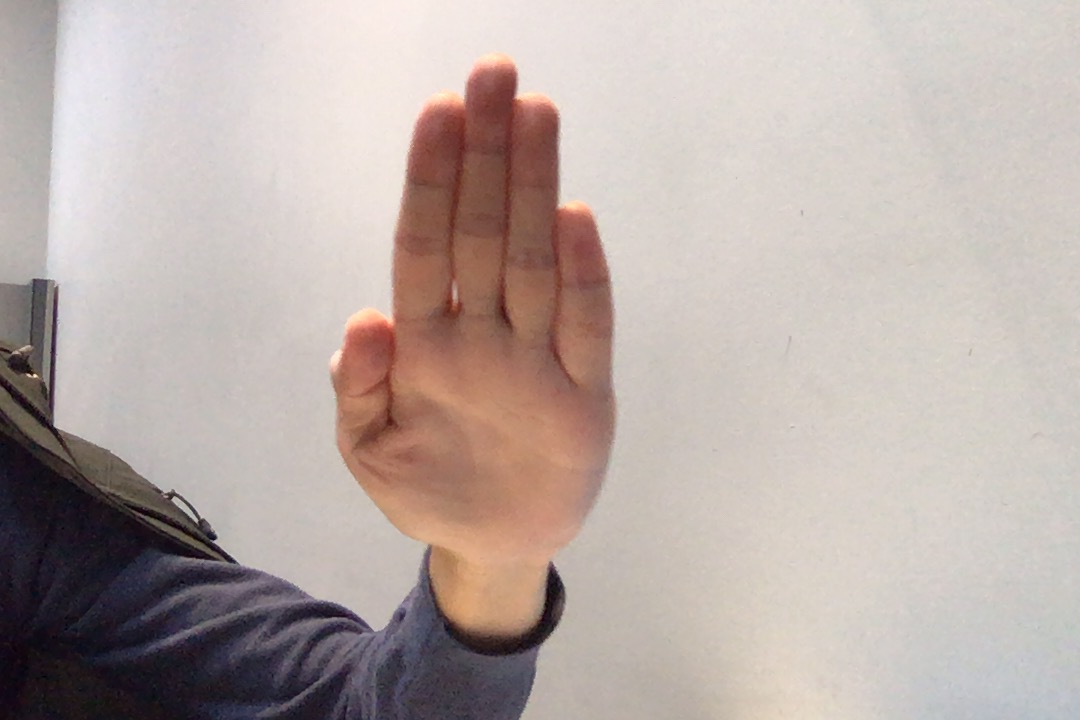palmhand: (305, 39, 644, 585)
